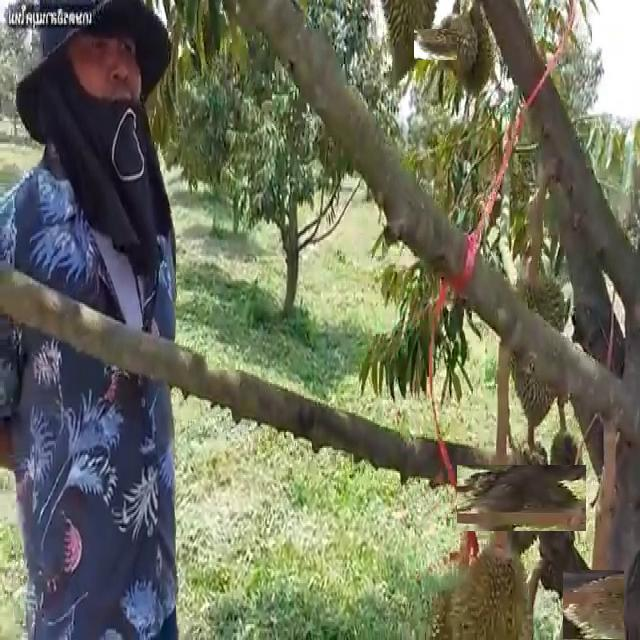durian: (506, 270, 570, 428), (473, 449, 571, 547), (448, 542, 533, 638), (378, 0, 441, 82), (560, 573, 628, 640), (547, 423, 587, 516), (457, 8, 496, 103), (424, 20, 474, 69), (446, 11, 480, 81)
